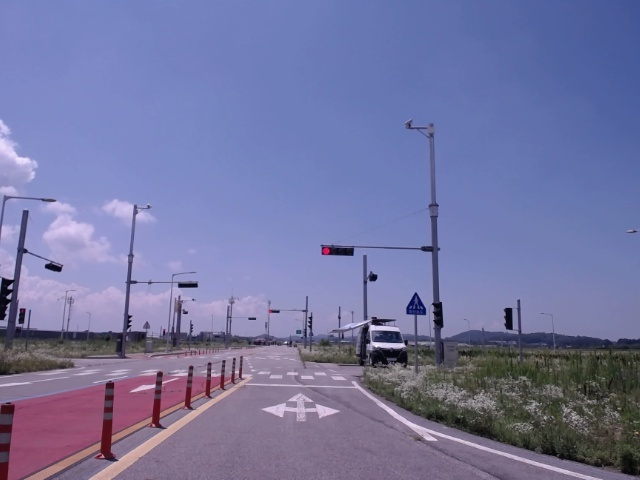red_4: (322, 246, 356, 257)
